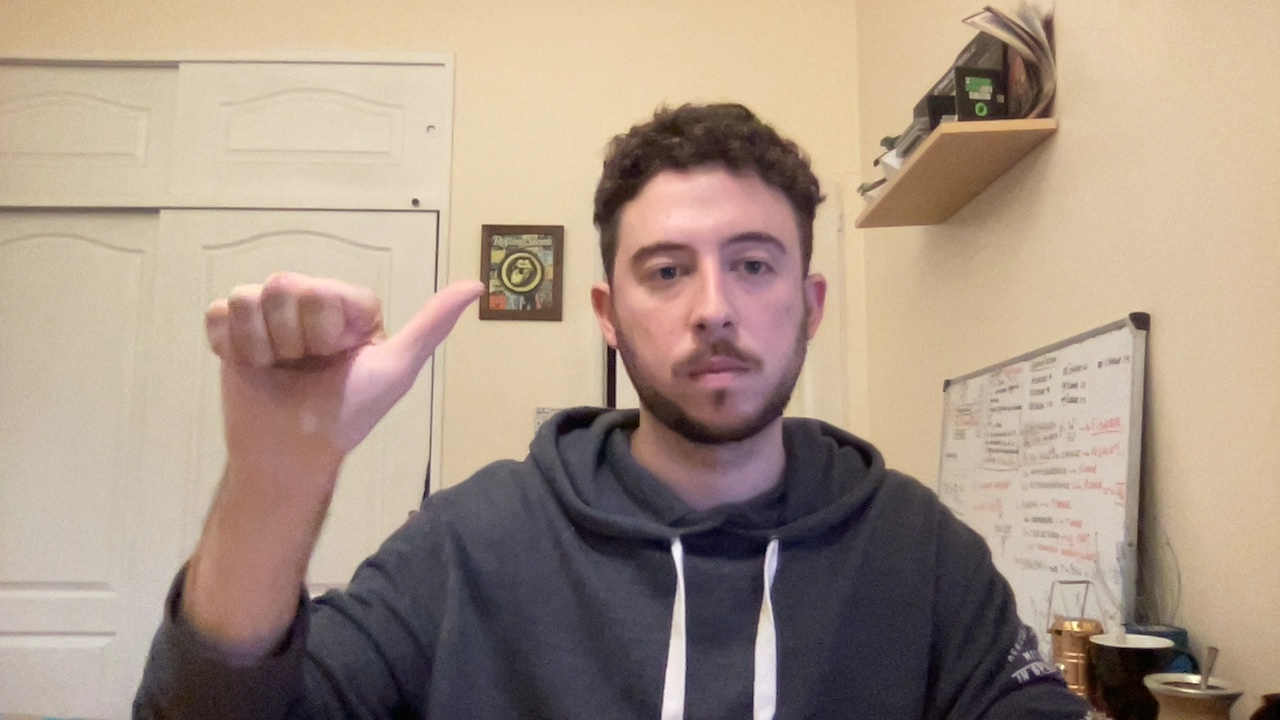pulgar: (188, 244, 495, 489)
